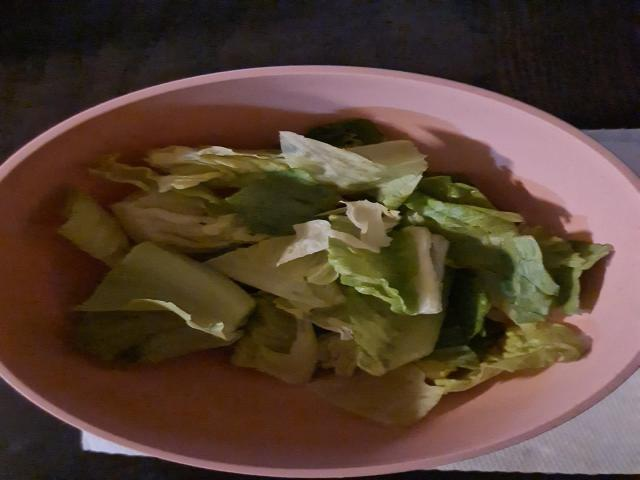kichen waste: (54, 120, 614, 430)
